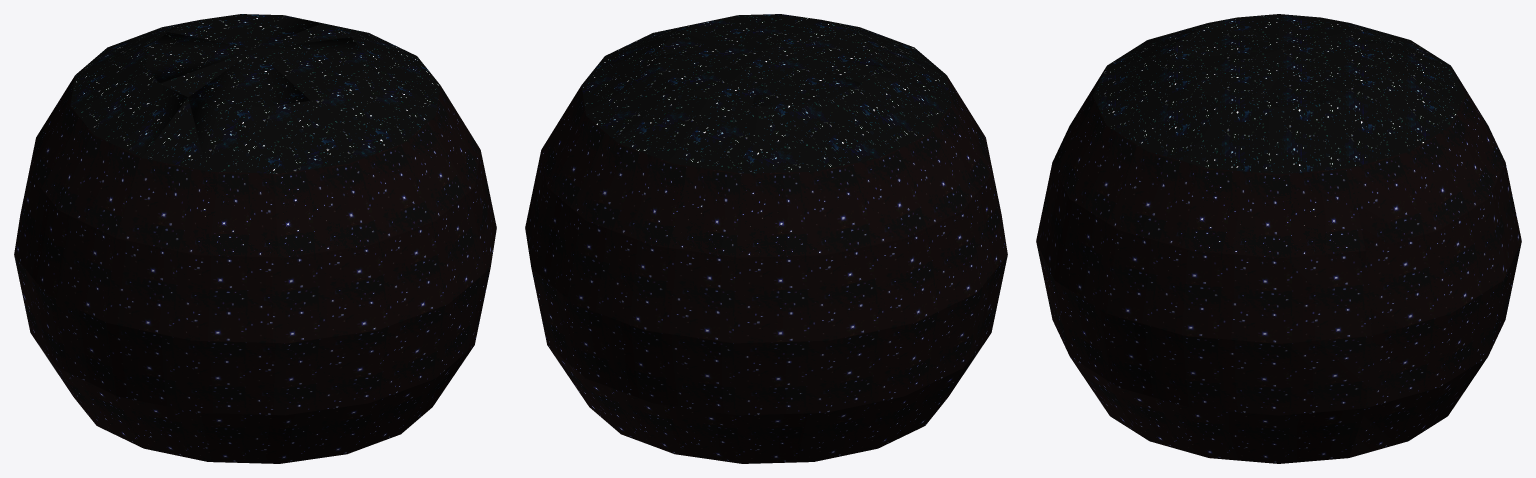
File: SkyAllParts.obj
3 views of the same model, side by side, from view 1: azimuth 30°, elevation 25°; view 2: azimuth 150°, elevation 25°; view 3: azimuth 270°, elevation 25° (orthographic).
Visible parts, largest first — view 1: out_Mesh_0161.rip; view 2: out_Mesh_0161.rip; view 3: out_Mesh_0161.rip.
Boxes of the visible parts, <box> form: out_Mesh_0161.rip: <box>14,14,496,463</box>; out_Mesh_0161.rip: <box>525,14,1007,463</box>; out_Mesh_0161.rip: <box>1036,14,1521,463</box>.
Size of the model in its own units: 14081 by 11619 by 14081.
